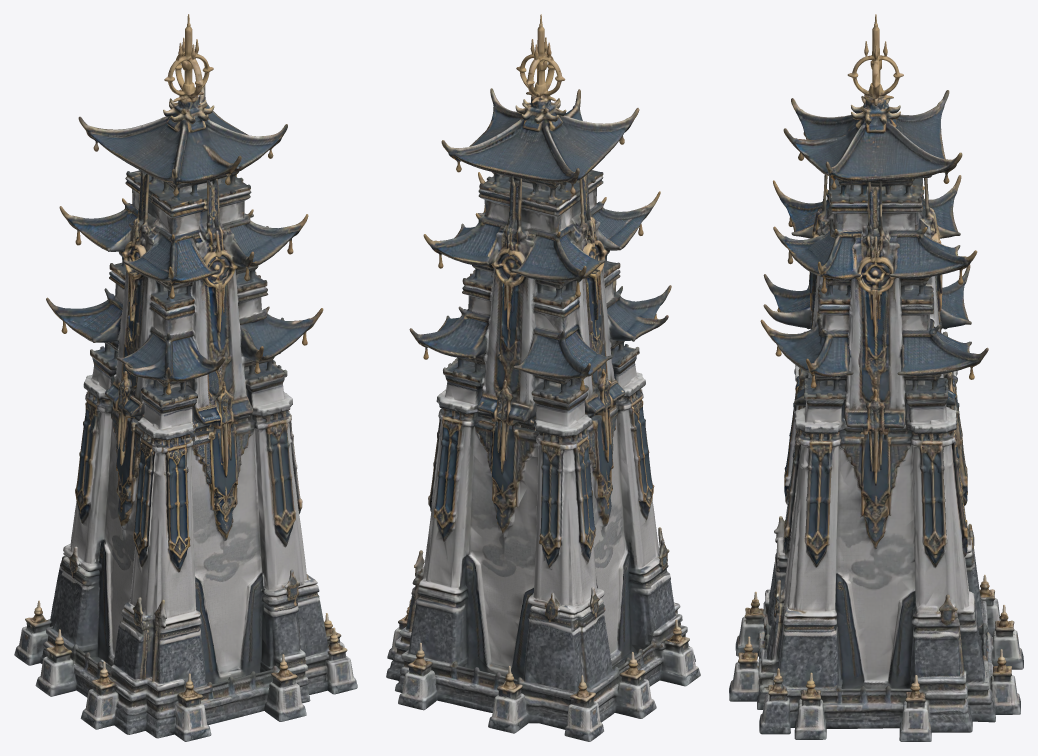
The picture shows the model from 3 angles, left to right: view 1: azimuth 30°, elevation 25°; view 2: azimuth 150°, elevation 25°; view 3: azimuth 270°, elevation 25°; orthographic projection.
Parts seen in each view (by area): view 1: tripo_node_8ccd721e-b274-48bb-9743-596554d6ae02; view 2: tripo_node_8ccd721e-b274-48bb-9743-596554d6ae02; view 3: tripo_node_8ccd721e-b274-48bb-9743-596554d6ae02.
Boxes of the visible parts, <box> form: tripo_node_8ccd721e-b274-48bb-9743-596554d6ae02: <box>14,14,357,741</box>; tripo_node_8ccd721e-b274-48bb-9743-596554d6ae02: <box>386,14,700,741</box>; tripo_node_8ccd721e-b274-48bb-9743-596554d6ae02: <box>729,14,1023,741</box>.
Bounding box in the file's own units: 0.4056 × 0.9999 × 0.4016.
1 material, 1 textured.
